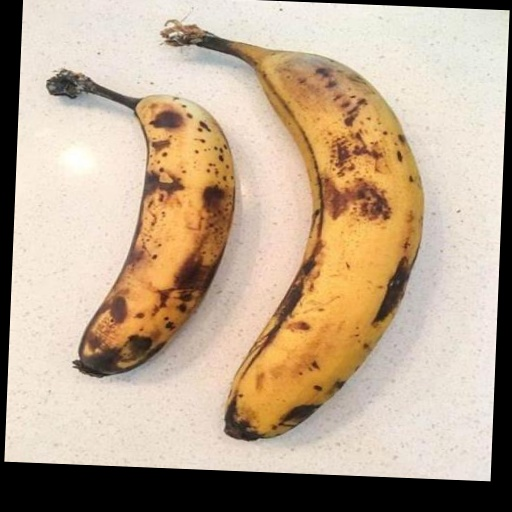fruit: (162, 22, 423, 439), (47, 70, 234, 375)
